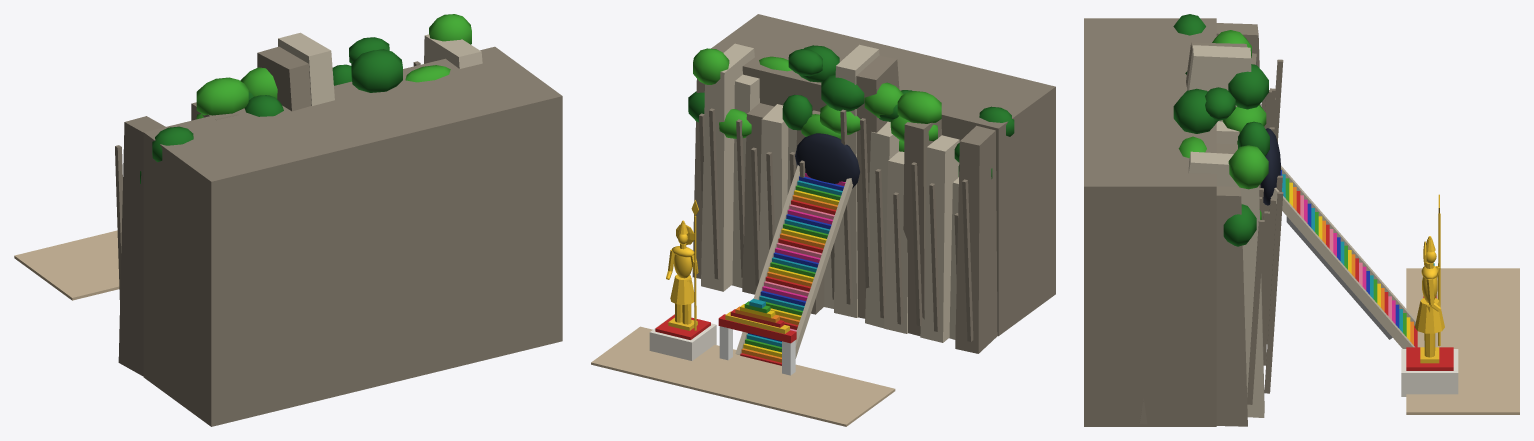
Rendered from env_lm3_batu_caves.fbx.
3 views of the same model, side by side, from view 1: azimuth 30°, elevation 25°; view 2: azimuth 150°, elevation 25°; view 3: azimuth 270°, elevation 25° (orthographic). The views are drawn at different scales.
Parts seen in each view (by area): view 1: env_lm3_batu_caves_geo_LOD0; view 2: env_lm3_batu_caves_geo_LOD0; view 3: env_lm3_batu_caves_geo_LOD0.
Part boxes in pixels (x1,y1,x2,y2): env_lm3_batu_caves_geo_LOD0: (14,14,562,426); env_lm3_batu_caves_geo_LOD0: (591,14,1055,426); env_lm3_batu_caves_geo_LOD0: (1084,14,1519,426).
Size of what is drawn, in the model's own units: 43.05 by 33.78 by 46.
